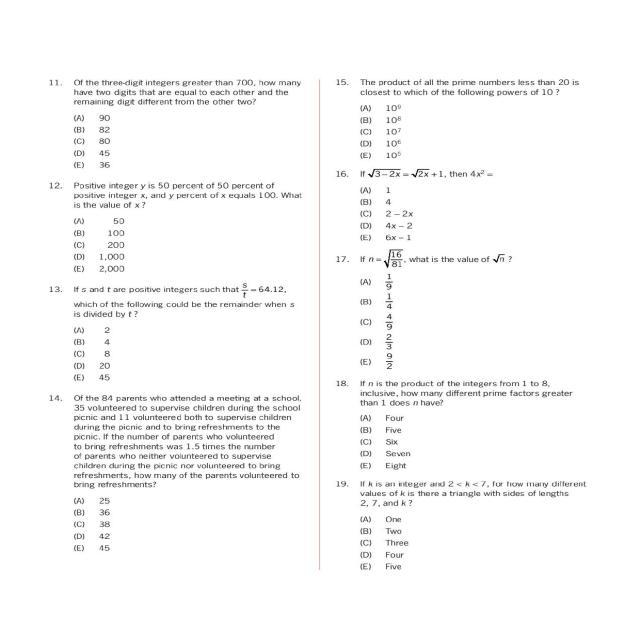Answer_Block: (328, 272, 604, 374), (35, 491, 310, 571), (328, 410, 604, 473), (328, 509, 604, 572), (35, 110, 310, 172), (35, 323, 310, 384), (328, 185, 604, 244), (35, 215, 310, 274), (328, 102, 604, 160)
Question_Answer_Block: (35, 389, 310, 571), (328, 248, 604, 374), (35, 282, 310, 384), (35, 75, 310, 172), (328, 378, 604, 473), (35, 179, 310, 274), (328, 478, 604, 572), (328, 76, 604, 162), (328, 166, 604, 244)
Question_Block: (35, 388, 310, 489), (35, 282, 310, 322), (35, 75, 310, 110), (35, 179, 310, 214), (328, 378, 604, 409), (328, 478, 604, 509), (328, 76, 604, 102), (328, 247, 604, 271), (328, 166, 604, 184)
Question_Paper_Area: (328, 76, 604, 572), (35, 75, 310, 571)
